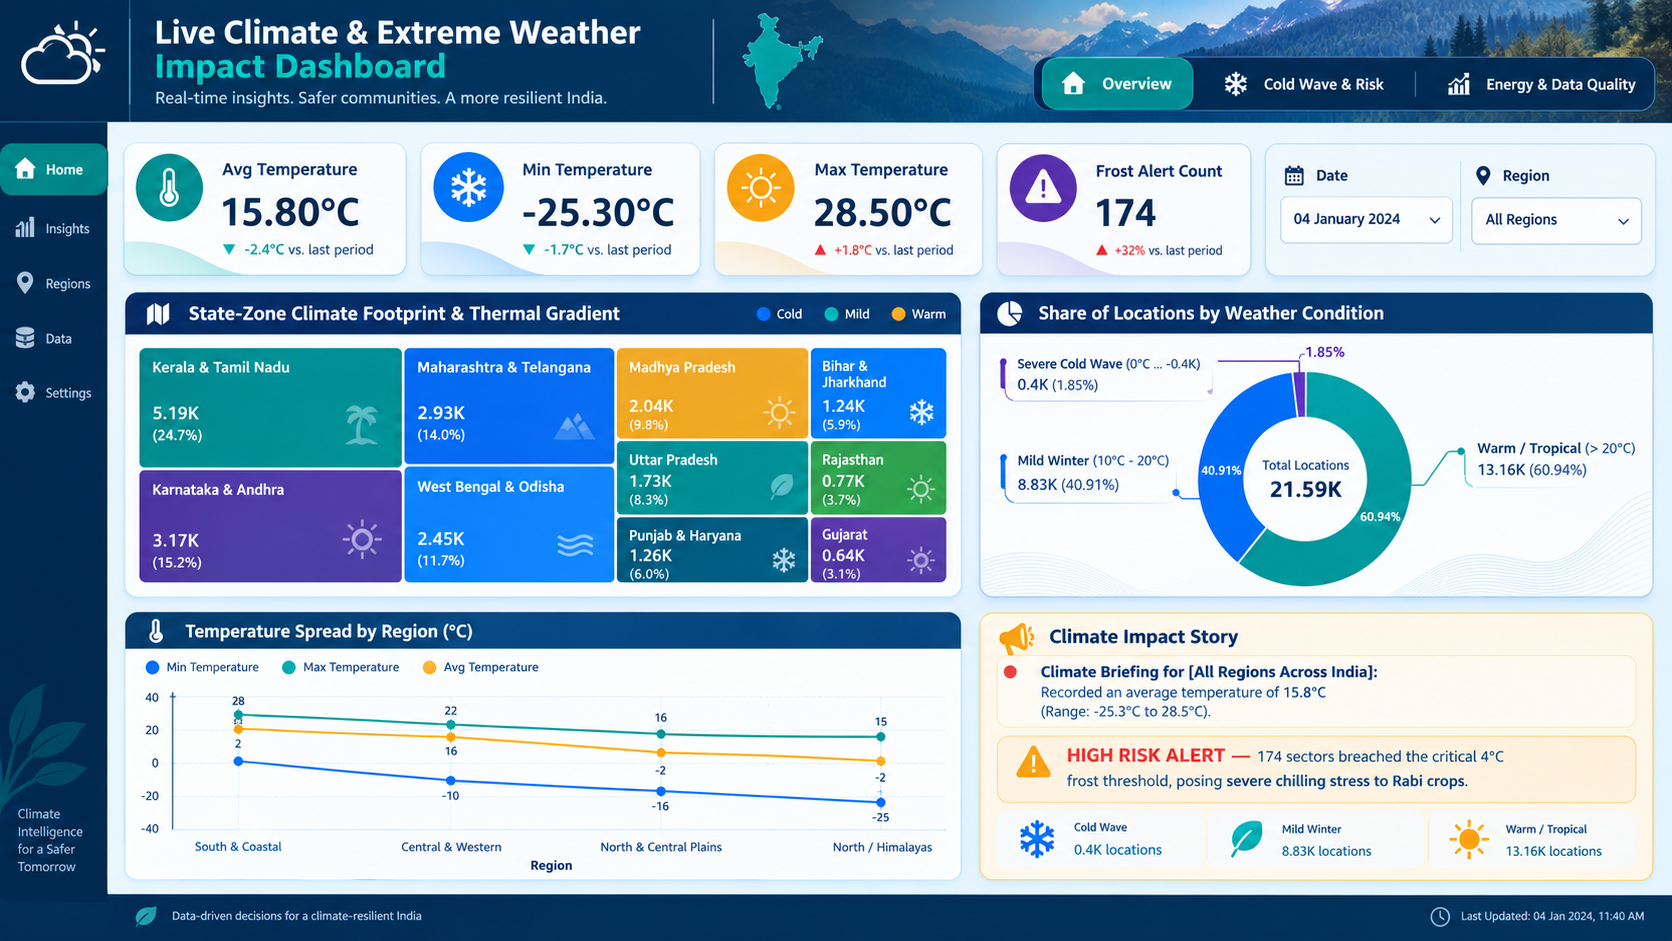

What the dashboard file says about the page in this screenshot:
{"tool":"powerbi","page":{"name":"Executive Overview 11","canvas":[1280,720],"ordinal":0},"visuals":[{"type":"shape","box":[0,470.9,745.5,249.1],"z":0},{"type":"shape","box":[0,195,653.8,276.2],"z":1000},{"type":"shape","box":[653.8,195,626.2,276.2],"z":2000},{"type":"shape","box":[796.2,86.2,483.8,117.5],"z":3000},{"type":"shape","box":[0,86.2,801.2,117.5],"z":4000},{"type":"shape","box":[8.7,13.7,618.2,63.4],"z":5000},{"type":"textbox","box":[16.2,21.1,603.3,48.5],"z":6000},{"type":"pageNavigator","box":[640.5,13.5,636.8,63.8],"z":7000},{"type":"slicer","fields":{"Values":["climate_clean_data.Date"]},"box":[816.2,108.5,217.2,73.6],"z":8000},{"type":"slicer","fields":{"Values":["climate_clean_data.Region"]},"box":[1043.8,108.5,217.5,73],"z":9000},{"type":"cardVisual","fields":{"Data":["climate_clean_data.Avg Temperature","climate_clean_data.Min Temperature","climate_clean_data.Max Temperature","climate_clean_data.Frost Alert Count"]},"box":[6.2,95,790,100],"z":10000},{"type":"cardVisual","title":"Climate Impact Story","fields":{"Data":["climate_clean_data.Climate Impact Story"]},"box":[745,480,531.2,223.8],"z":11000},{"type":"lineChart","title":"Temperature Spread by Region (°C)","fields":{"Category":["climate_clean_data.Region"],"Y":["climate_clean_data.Min Temperature","climate_clean_data.Max Temperature","climate_clean_data.Avg Temperature"]},"box":[21.2,491.2,698.8,212.5],"z":12000},{"type":"donutChart","title":"Share of Locations by Weather Condition","fields":{"Category":["climate_clean_data.Weather Condition"],"Y":["CountNonNull(climate_clean_data.T2M)"]},"box":[668.8,203.8,598.8,253.8],"z":13000},{"type":"treemap","title":"State-Zone Climate Footprint & Thermal Gradient","fields":{"Group":["climate_clean_data.State_Zone"],"Values":["CountNonNull(climate_clean_data.T2M)"]},"box":[21.2,210,606.2,247.5],"z":14000}]}

Visuals, with their boxes on the page's 1280x720 design canvas (x1, y1, x2, y2). These are canvas units, not pixel positions in the 1672x941 screenshot, which may show the page scaled, cropped or inside an application window:
shape: region(0, 471, 746, 720)
shape: region(0, 195, 654, 471)
shape: region(654, 195, 1280, 471)
shape: region(796, 86, 1280, 204)
shape: region(0, 86, 801, 204)
shape: region(9, 14, 627, 77)
textbox: region(16, 21, 620, 70)
pageNavigator: region(640, 14, 1277, 77)
slicer - climate_clean_data.Date: region(816, 108, 1033, 182)
slicer - climate_clean_data.Region: region(1044, 108, 1261, 182)
cardVisual - climate_clean_data.Avg Temperature x climate_clean_data.Min Temperature: region(6, 95, 796, 195)
"Climate Impact Story" cardVisual: region(745, 480, 1276, 704)
"Temperature Spread by Region (°C)" lineChart: region(21, 491, 720, 704)
"Share of Locations by Weather Condition" donutChart: region(669, 204, 1268, 458)
"State-Zone Climate Footprint & Thermal Gradient" treemap: region(21, 210, 627, 458)
